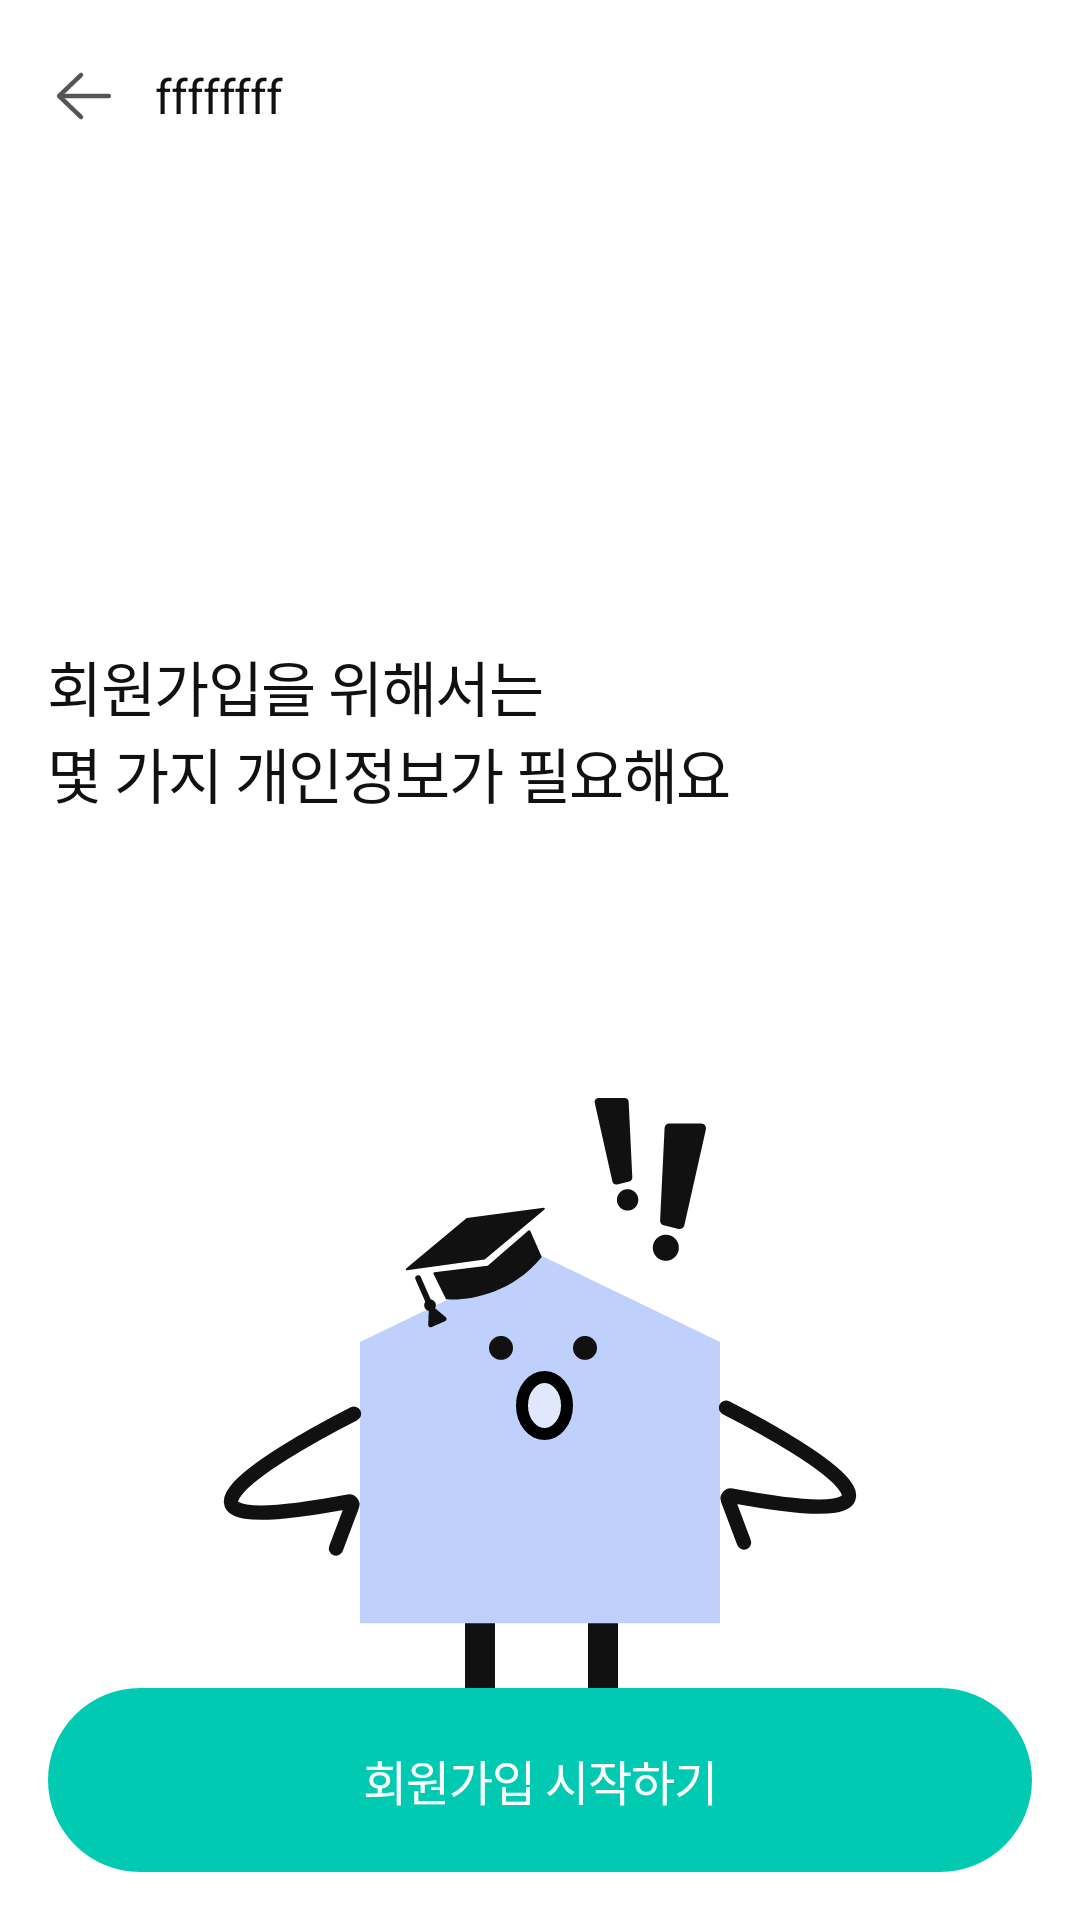

Where icons sit on this 1080px x 1920px app screen, as {"left": x1, "top": y1, "right": x2, "bottom": y2}:
back: {"left": 57, "top": 72, "right": 111, "bottom": 120}
